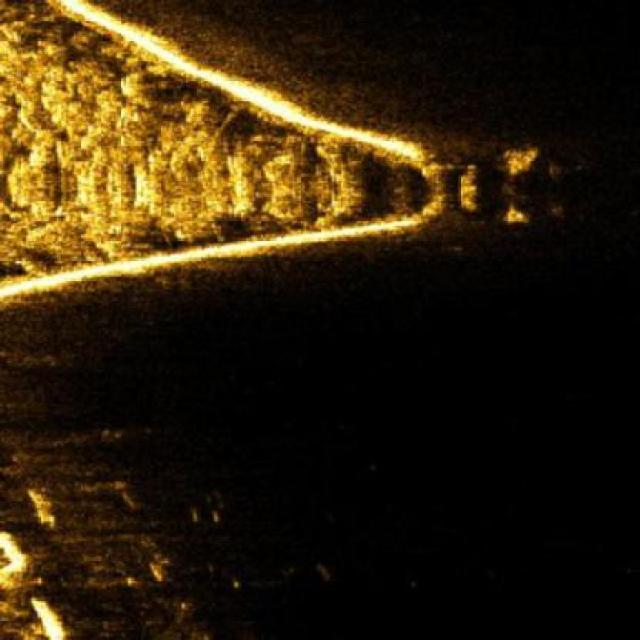bedrock group: (0, 0, 363, 294)
